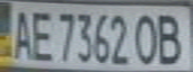2: (109, 9, 133, 65)
3: (72, 8, 93, 63)
6: (90, 9, 112, 65)
7: (54, 7, 75, 63)
A: (6, 4, 36, 61)
B: (154, 9, 190, 65)
E: (27, 6, 57, 62)
O: (133, 10, 163, 65)
